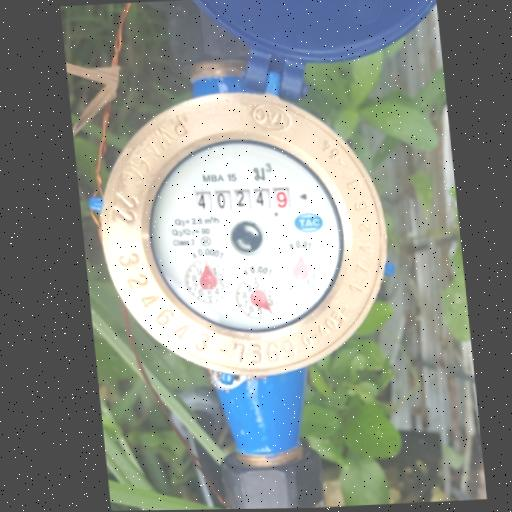0: (214, 190, 231, 209)
2: (234, 187, 251, 210)
4: (196, 190, 211, 211), (255, 189, 270, 208)
9: (274, 188, 289, 209)
border_water_meter_number: (189, 181, 296, 218)
